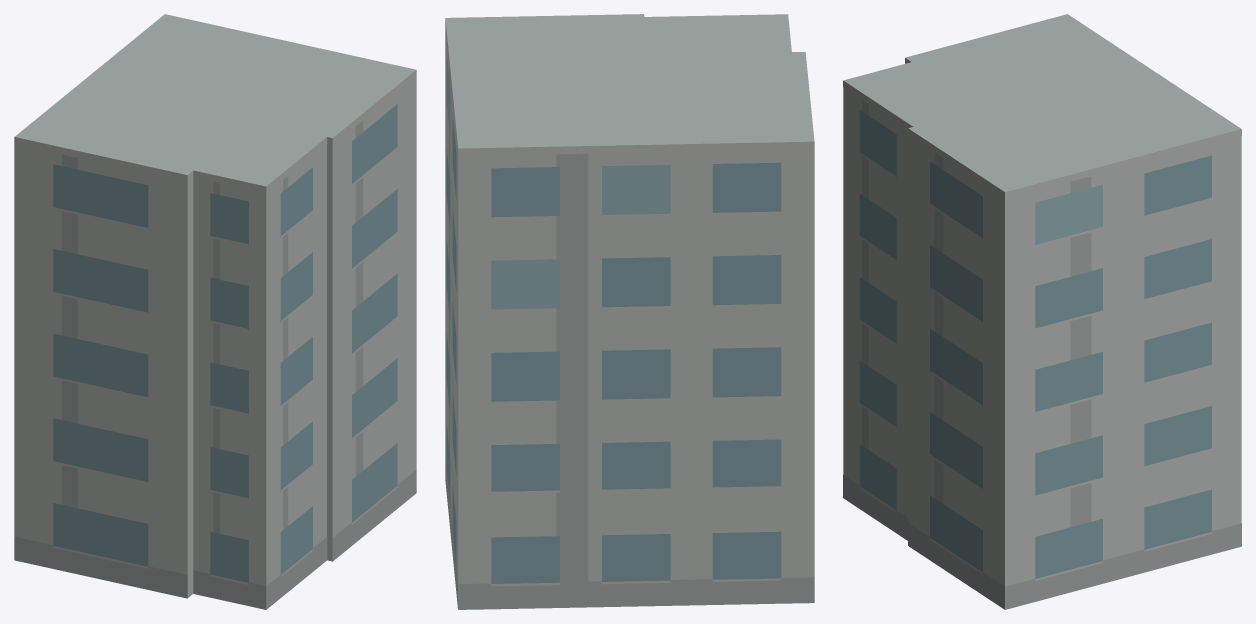
File: residential-57d7140e-d120-41e2-87ad-fed99228df3c.glb
3 views of the same model, side by side, from view 1: azimuth 30°, elevation 25°; view 2: azimuth 150°, elevation 25°; view 3: azimuth 270°, elevation 25° (orthographic). The views are drawn at different scales.
Parts seen in each view (by area): view 1: residential-57d7140e-d120-41e2-87ad-fed99228df3c.tmp; view 2: residential-57d7140e-d120-41e2-87ad-fed99228df3c.tmp; view 3: residential-57d7140e-d120-41e2-87ad-fed99228df3c.tmp.
Boxes of the visible parts, x1,y1,x2,y2 form: residential-57d7140e-d120-41e2-87ad-fed99228df3c.tmp: (14, 14, 416, 609); residential-57d7140e-d120-41e2-87ad-fed99228df3c.tmp: (445, 14, 814, 609); residential-57d7140e-d120-41e2-87ad-fed99228df3c.tmp: (843, 14, 1241, 609).
Size of the model in its own units: 13.47 by 14.7 by 12.72.
